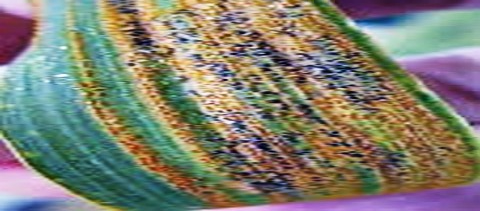Leaf Rust: (152, 5, 410, 191)
